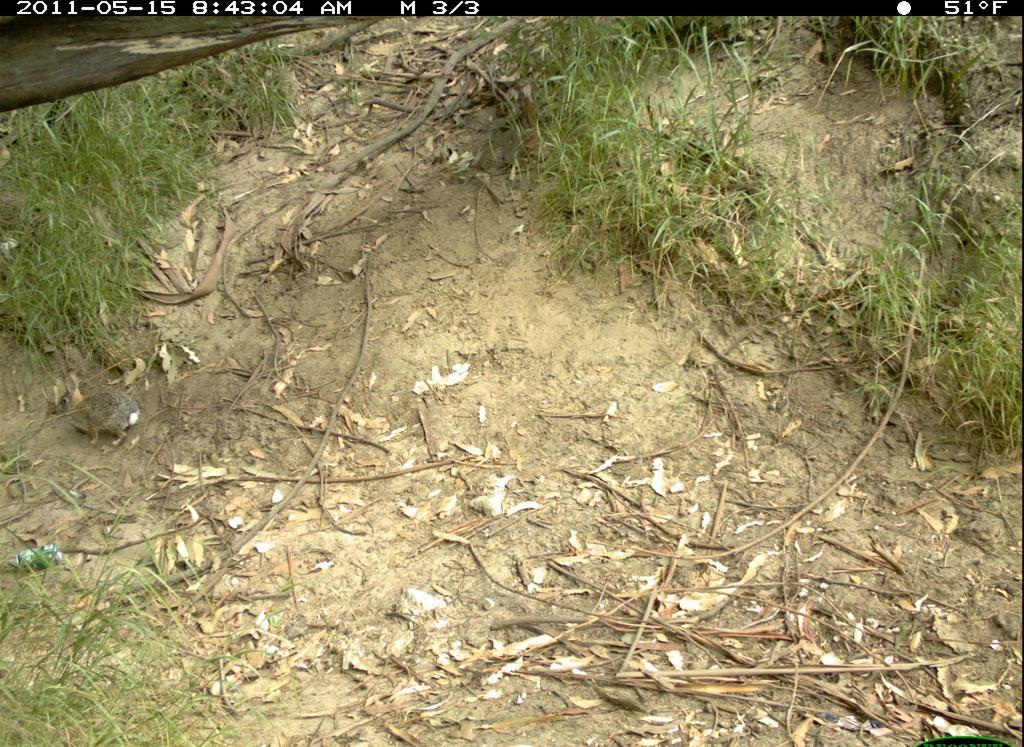rabbit: (48, 367, 150, 459)
